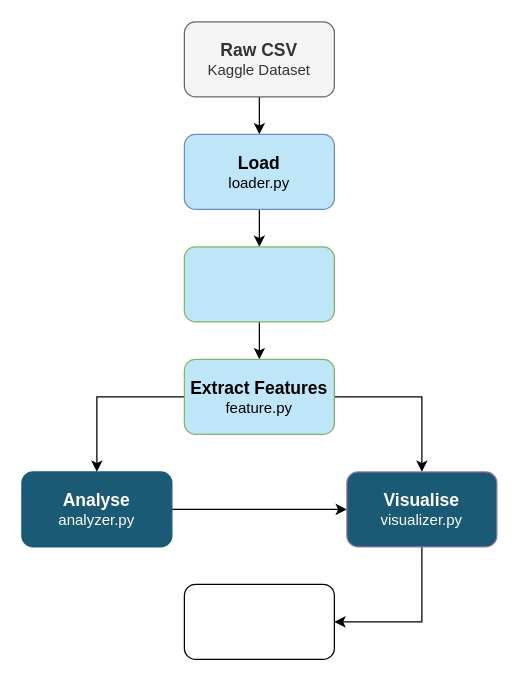
Image size: 519x681. Some labels were removed from this diagram. Each missing label, with the centre of its shape:
"Clean clean.py" belongs at point 258,284.
"Output CSV + PNG charts" belongs at point 258,621.
